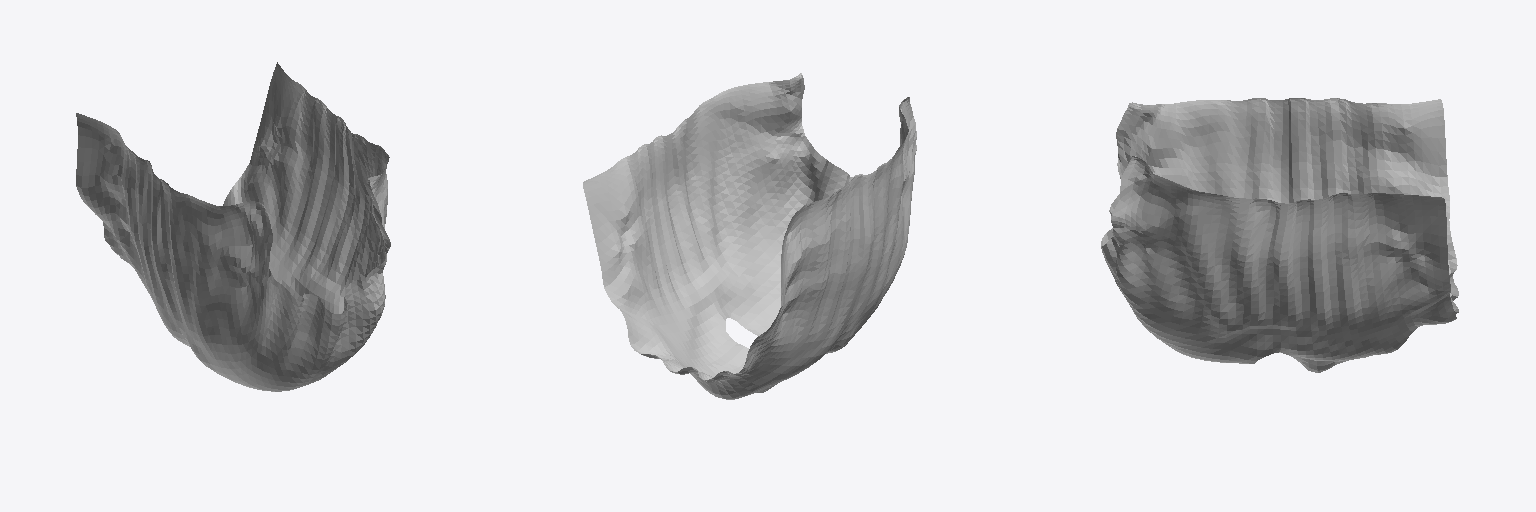
The model's file is Cloth_L.obj.
The picture shows the model from 3 angles: view 1: azimuth 30°, elevation 25°; view 2: azimuth 150°, elevation 25°; view 3: azimuth 270°, elevation 25°; orthographic projection.
Parts seen in each view (by area): view 1: Cloth_L; view 2: Cloth_L; view 3: Cloth_L.
Boxes of the visible parts, box(x1,y1,x2,y2) form: Cloth_L: box(76, 62, 390, 391); Cloth_L: box(583, 73, 916, 399); Cloth_L: box(1101, 98, 1458, 372).
Bounding box in the file's own units: 0.196 × 0.2198 × 0.2951.